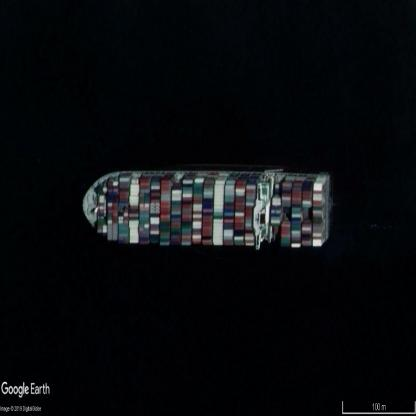ship: (83, 172, 329, 247)
